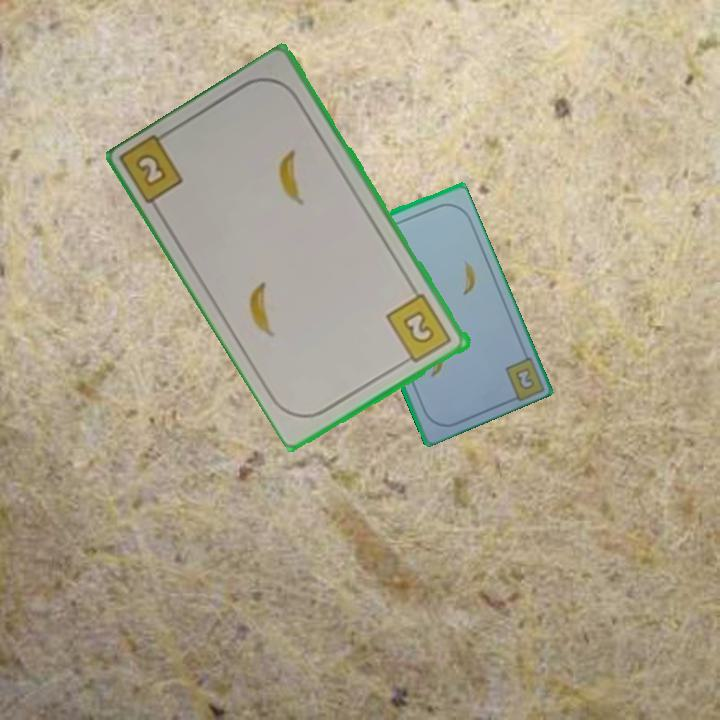2b: (383, 290, 455, 368), (132, 149, 170, 191), (511, 364, 537, 393)
